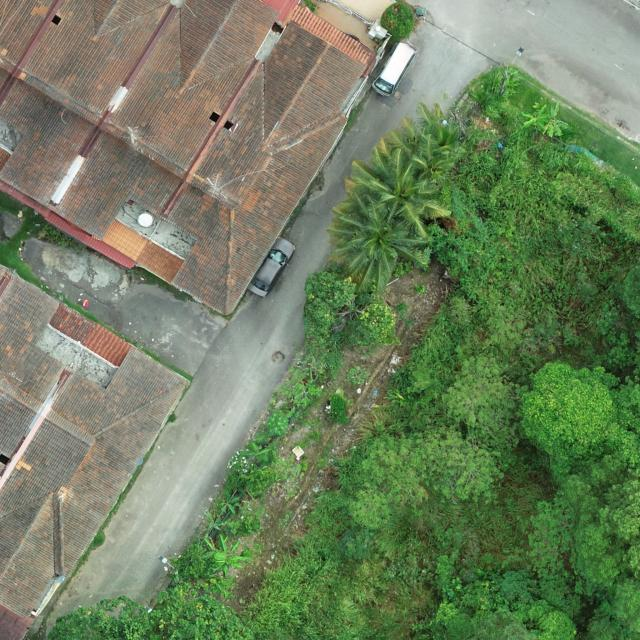banana_tree2: (521, 96, 574, 138)
tree: (347, 428, 508, 533), (517, 359, 623, 479), (325, 189, 431, 299), (343, 147, 454, 239), (439, 353, 520, 448), (376, 103, 464, 182), (380, 0, 416, 42)
